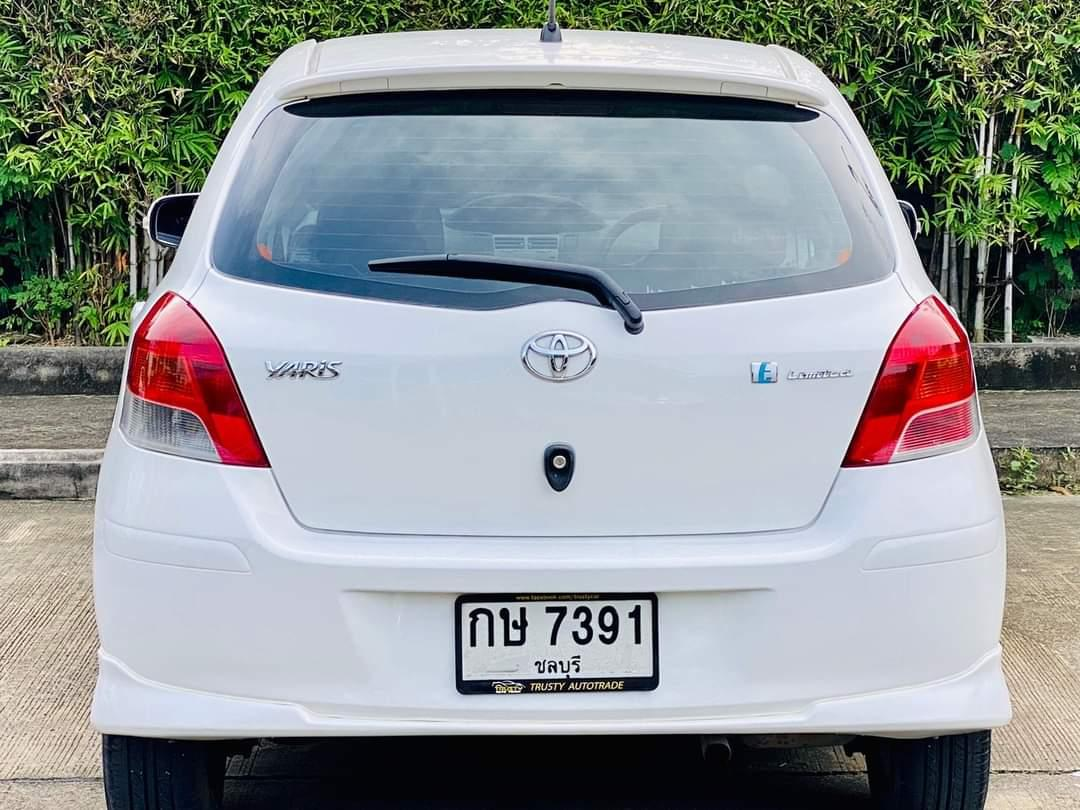license-plate: (454, 591, 664, 694)
